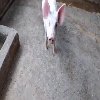heo: (39, 1, 65, 55)
